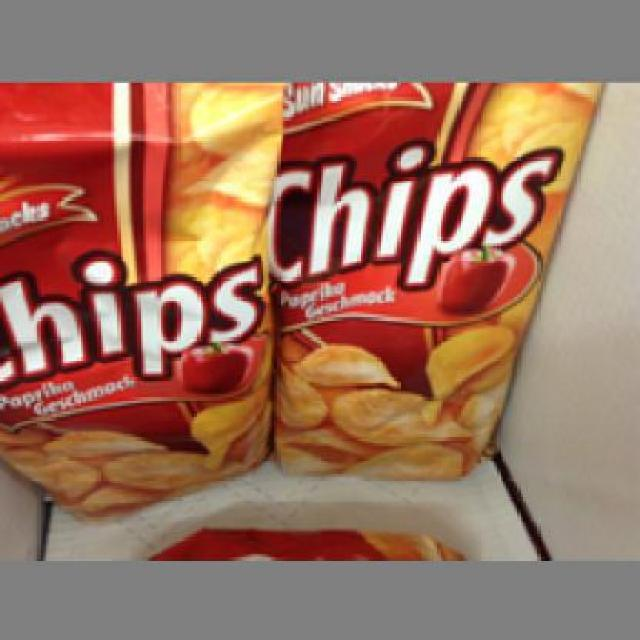Chips: (277, 80, 586, 480), (2, 84, 276, 522)
